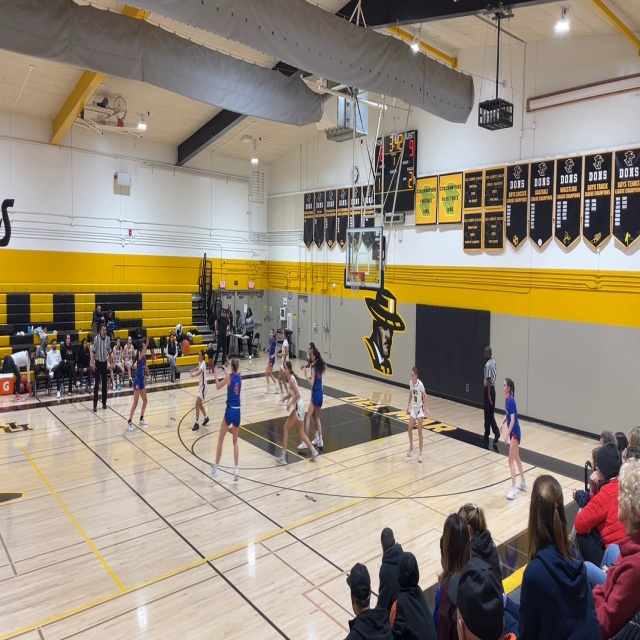Basketball: (181, 339, 190, 355)
